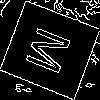M: (24, 24, 80, 80)
